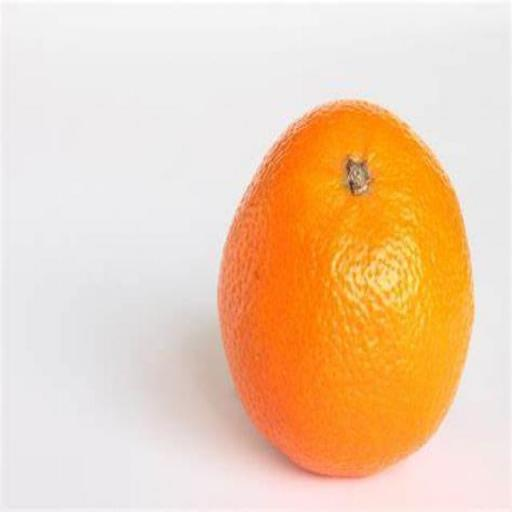fruit: (219, 101, 473, 475)
